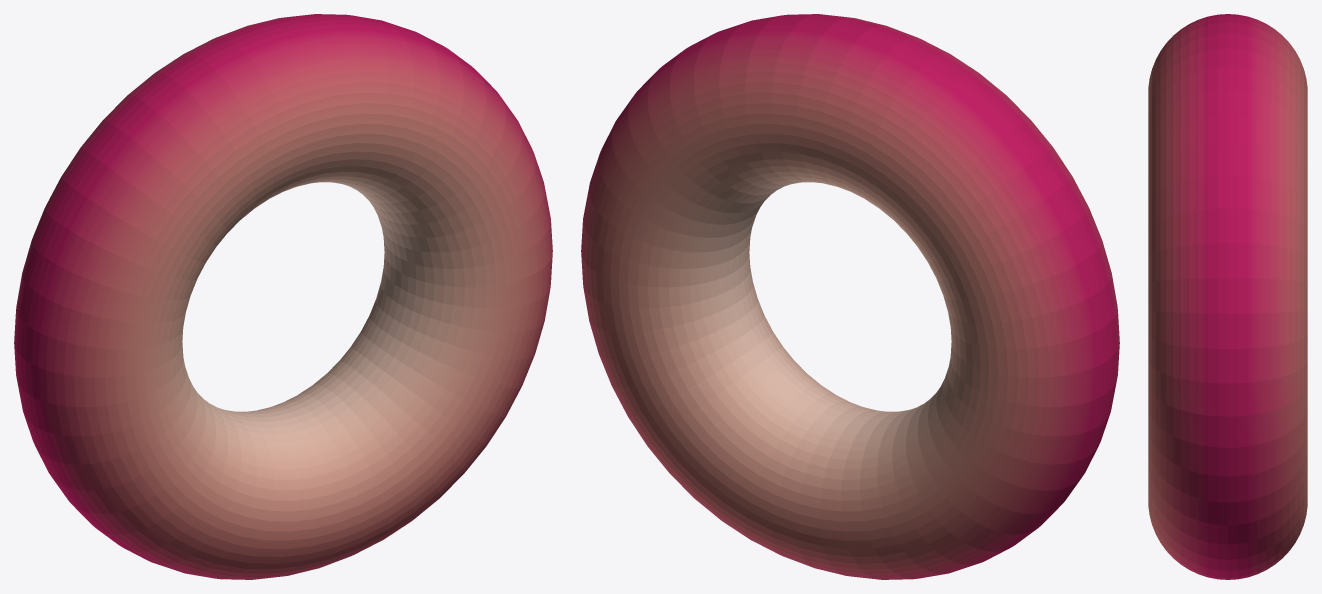
The picture shows the model from 3 angles, left to right: view 1: azimuth 30°, elevation 25°; view 2: azimuth 150°, elevation 25°; view 3: azimuth 270°, elevation 25°; orthographic projection. The views are drawn at different scales.
Visible parts, largest first — view 1: world; view 2: world; view 3: world.
Boxes of the visible parts, x1,y1,x2,y2 form: world: (14,14,552,579); world: (581,14,1119,579); world: (1148,14,1307,579).
Size of the model in its own units: 28.8 by 28.74 by 8.12.
